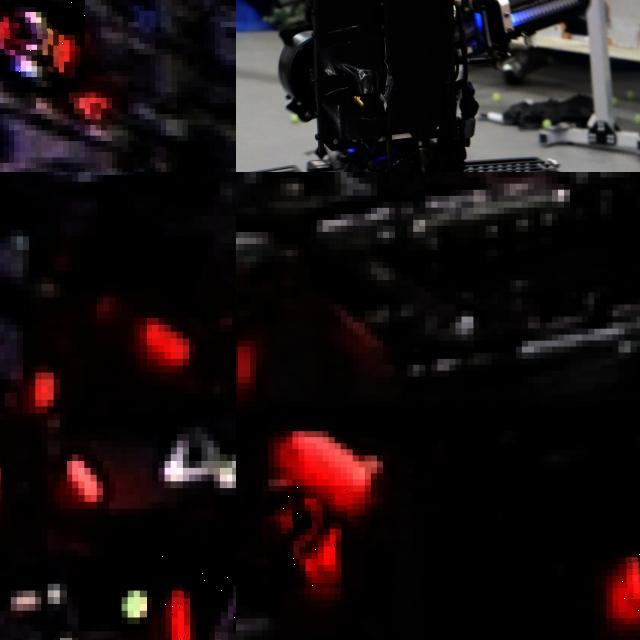R2: (268, 486, 347, 588), (0, 0, 85, 81), (618, 527, 640, 618)
R4: (158, 542, 236, 640)
